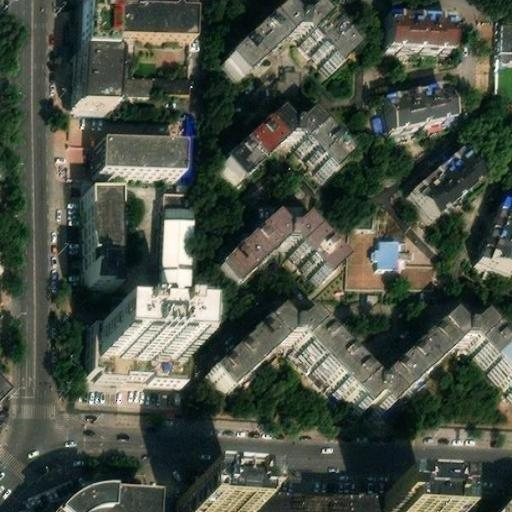building: (203, 299, 368, 389), (347, 305, 465, 404), (222, 103, 357, 177), (218, 214, 348, 290), (229, 3, 360, 78), (405, 141, 484, 217), (92, 310, 193, 369), (391, 71, 459, 125), (102, 310, 186, 350), (162, 186, 194, 285), (81, 191, 116, 281), (92, 141, 176, 176), (69, 31, 108, 105), (389, 17, 456, 56), (462, 306, 508, 355), (481, 191, 512, 263), (237, 496, 368, 512), (59, 496, 153, 512), (123, 69, 189, 91), (178, 127, 200, 187), (177, 491, 239, 512), (367, 495, 431, 512), (489, 339, 512, 381), (373, 234, 403, 262), (501, 13, 512, 44)
